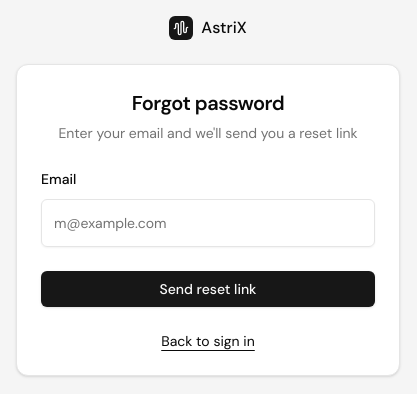
Scenario: ForgotPassword › shows a generic confirmation message on success
Type "ada@example.com" into the field labelled "Email" at (208, 223), box 41,199 -> 375,247
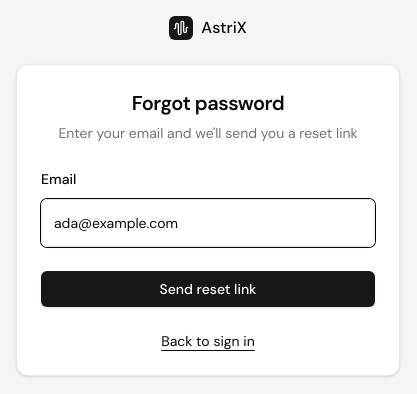
Click the button "Send reset link" at (208, 289), box 41,271 -> 375,307
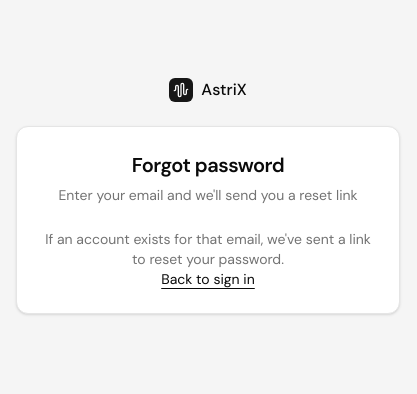
Result: the text "If an account exists for that email" is shown at 45,230 -> 371,268
